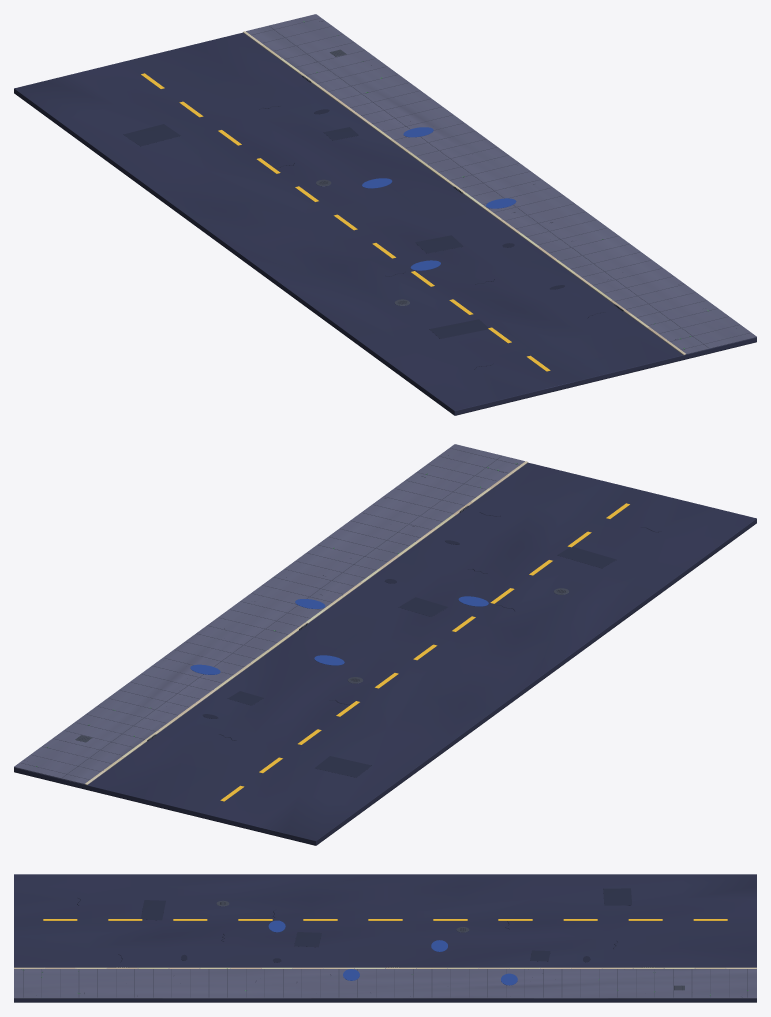
File: SM_Studio_Street.fbx
3 renders of one model, top to bottom at view 1: azimuth 30°, elevation 25°; view 2: azimuth 150°, elevation 25°; view 3: azimuth 270°, elevation 25°, orthographic. The views are drawn at different scales.
Visible parts, largest first — view 1: SM_Studio_Street; view 2: SM_Studio_Street; view 3: SM_Studio_Street.
Part boxes in pixels (bbox=[...]): SM_Studio_Street: bbox=[14, 14, 756, 415]; SM_Studio_Street: bbox=[14, 444, 756, 845]; SM_Studio_Street: bbox=[14, 874, 756, 1002].
Bounding box in the file's own units: 1900 × 40.93 × 4800.
